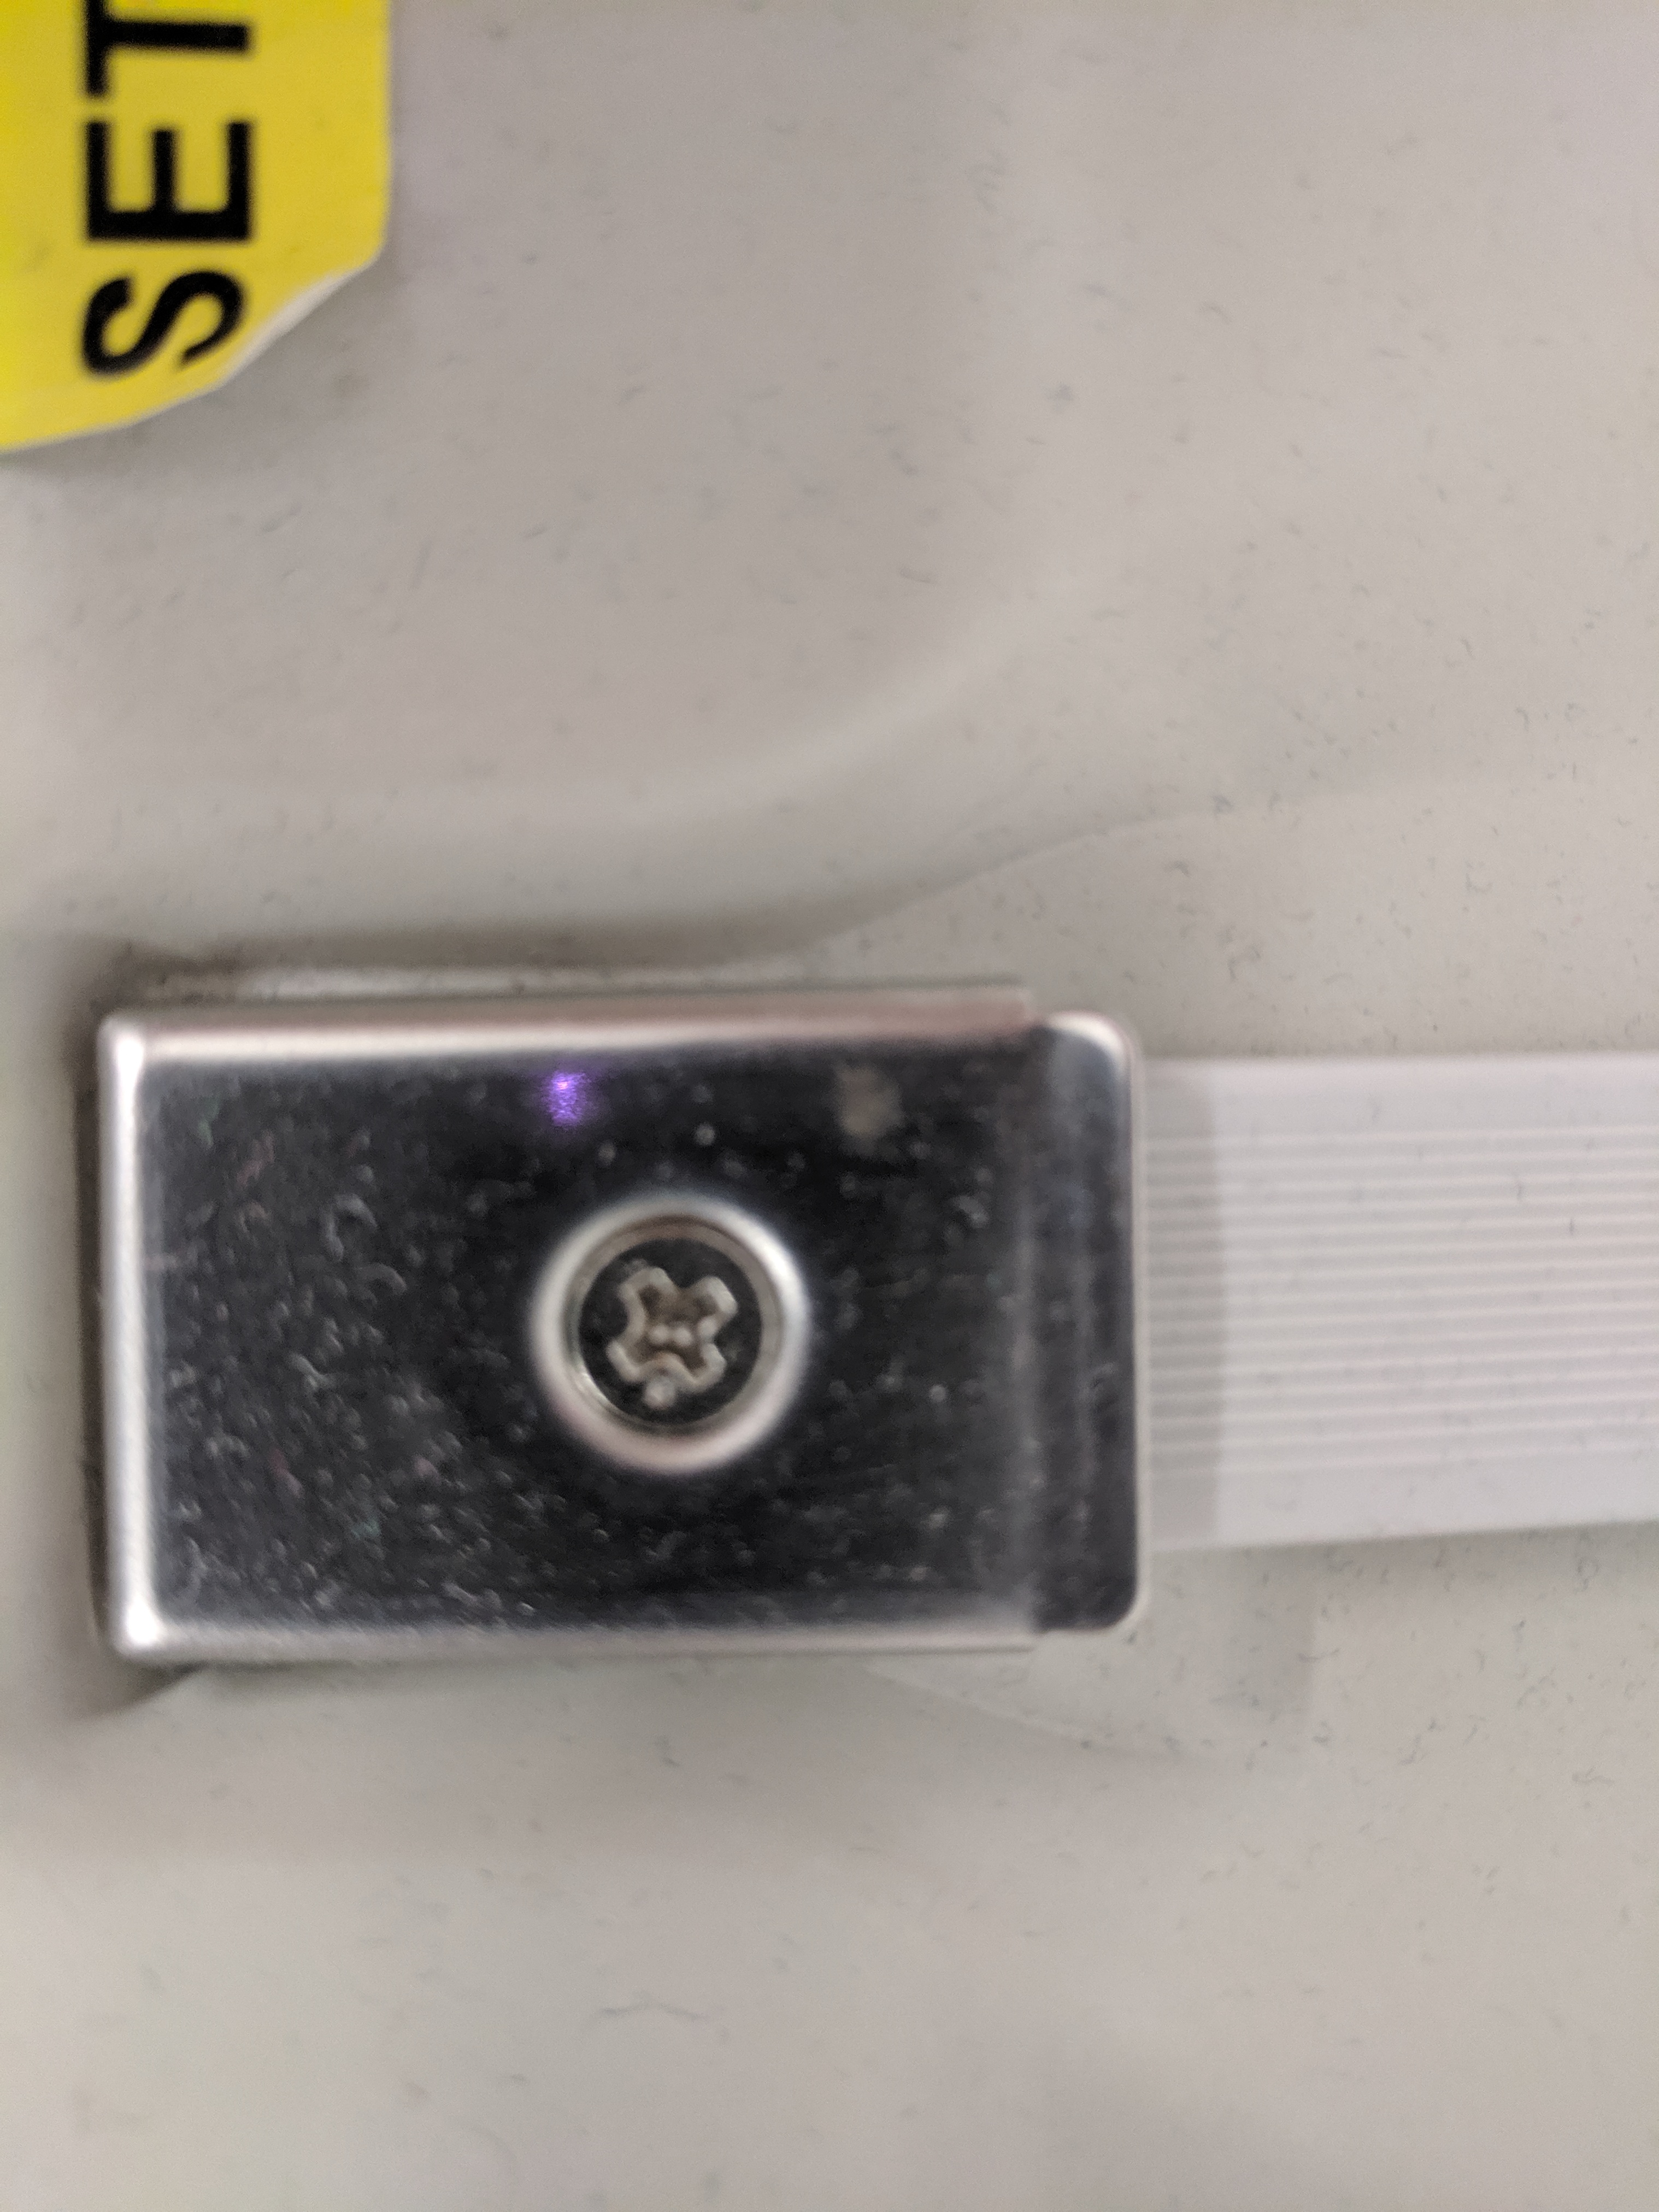cross_recessed_screw: (551, 1209, 775, 1430)
